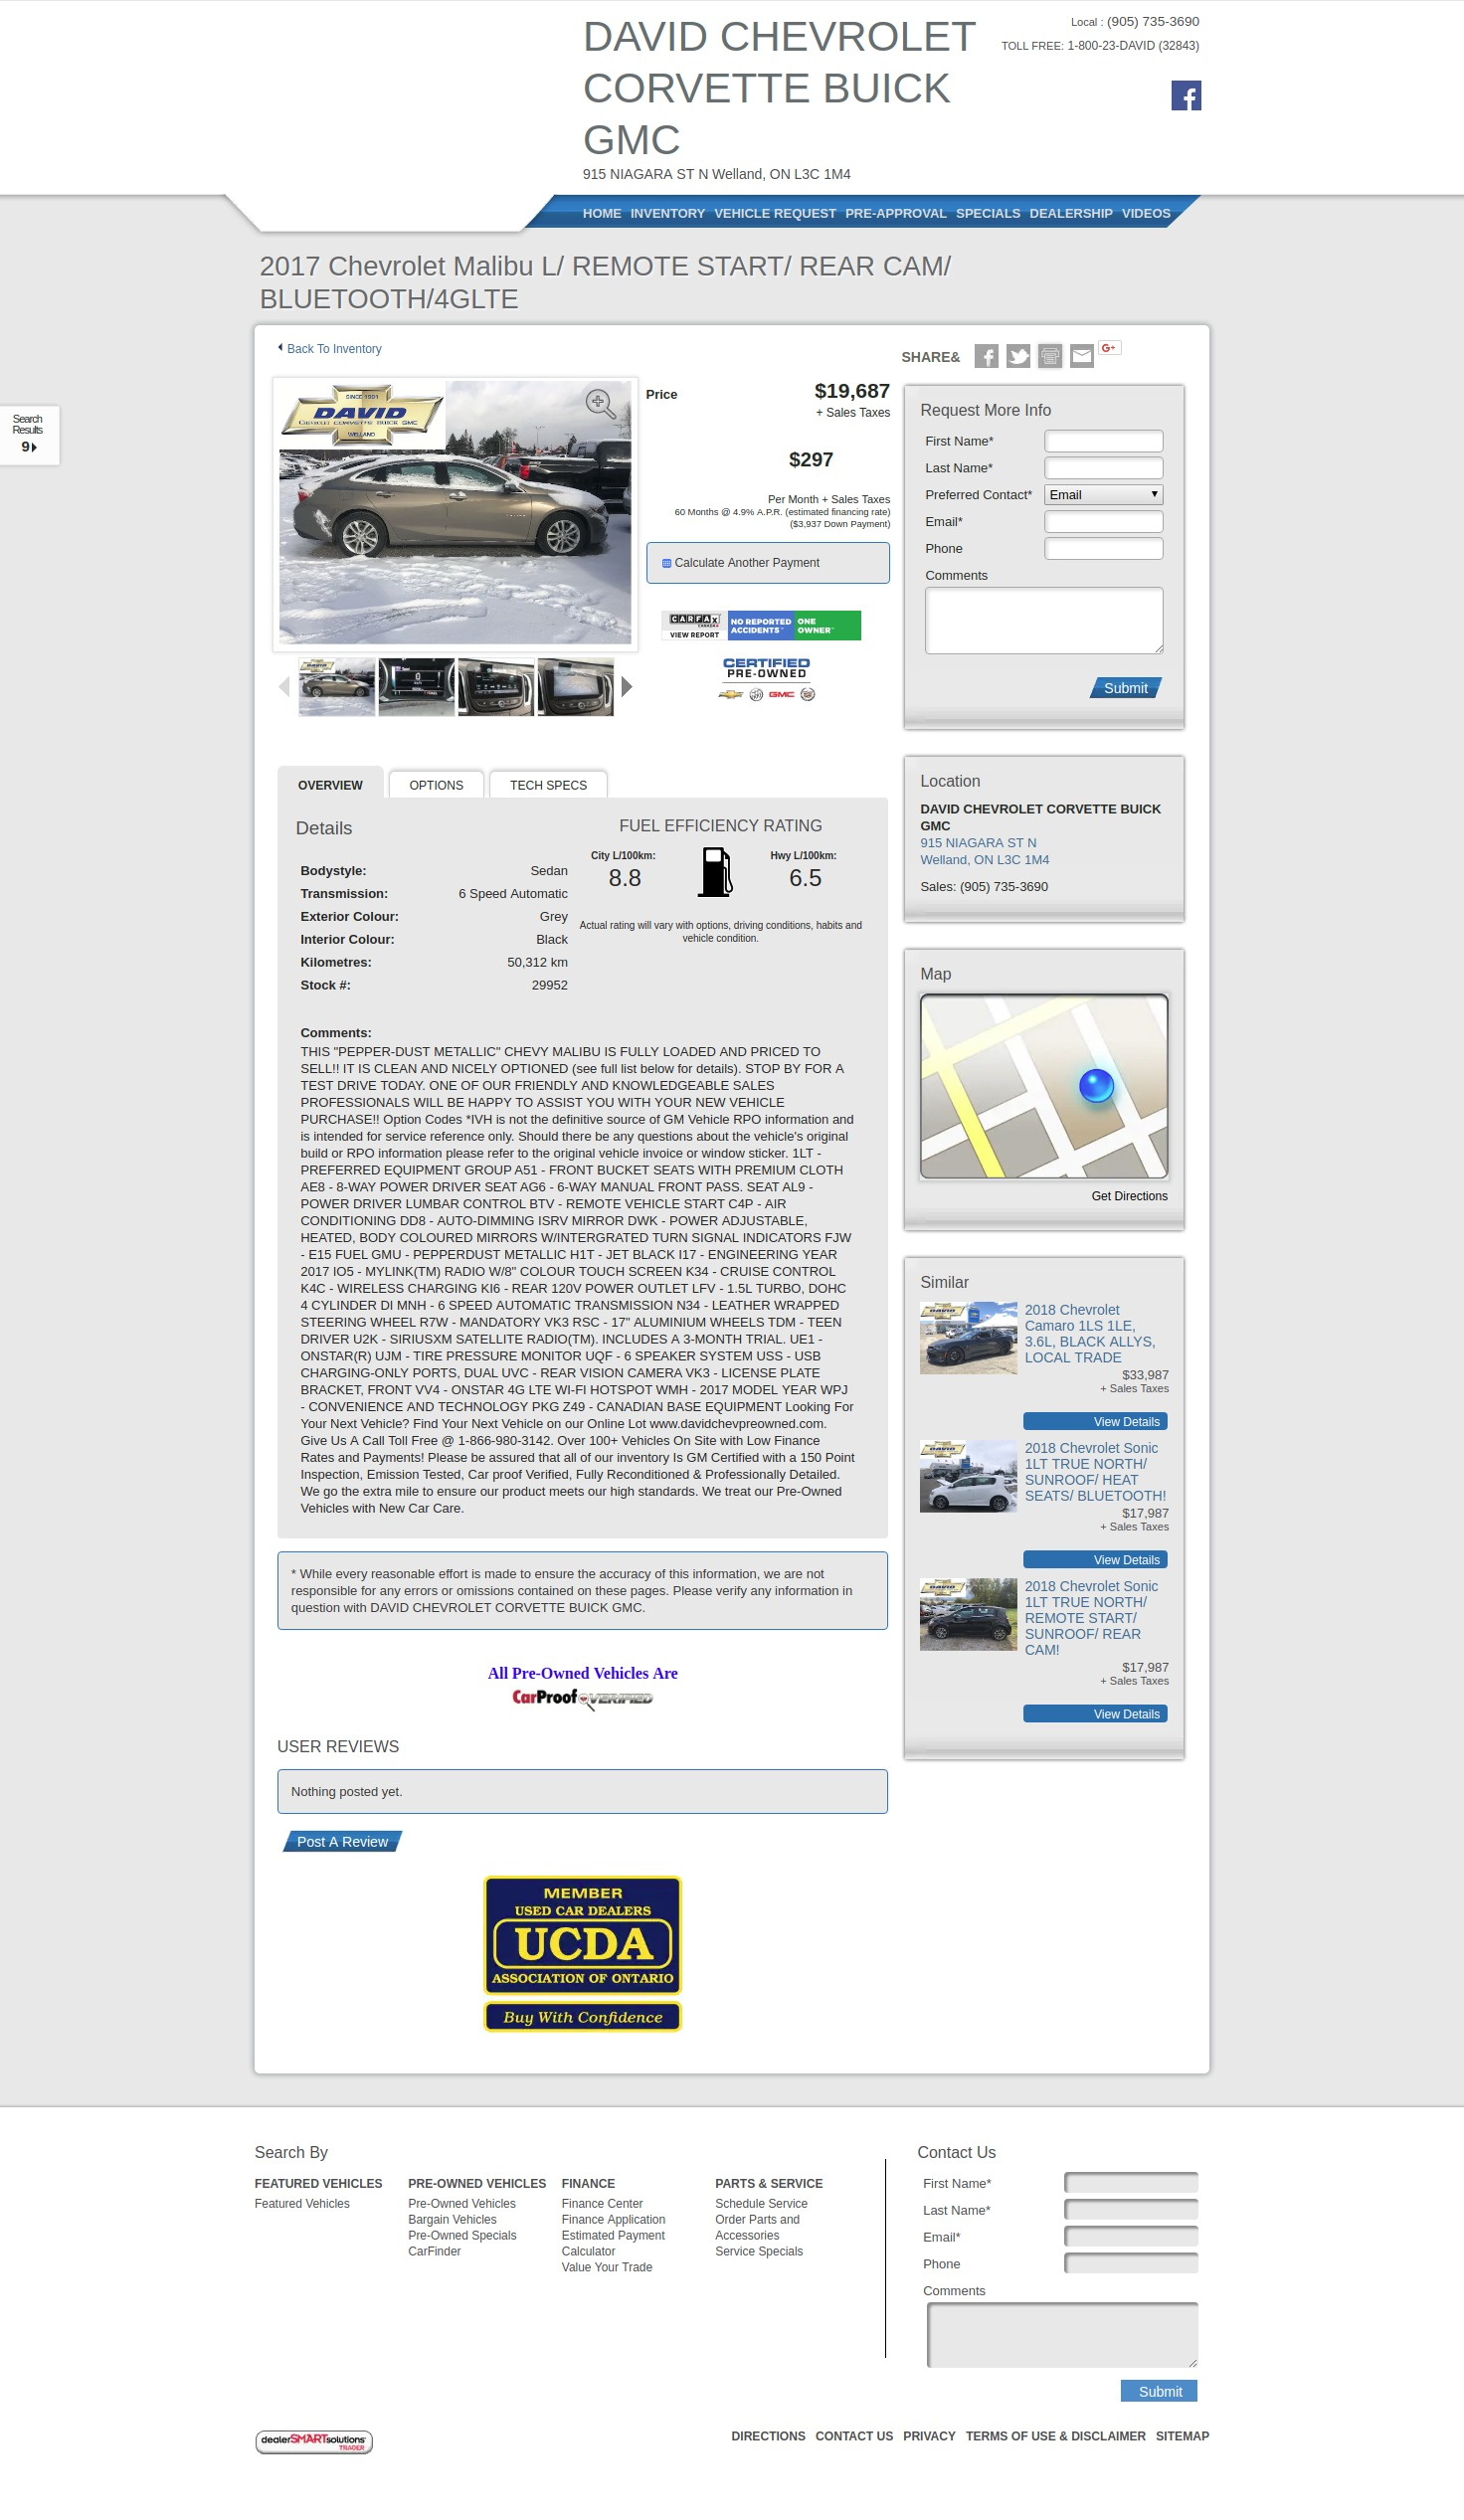car: (620, 674, 634, 701)
